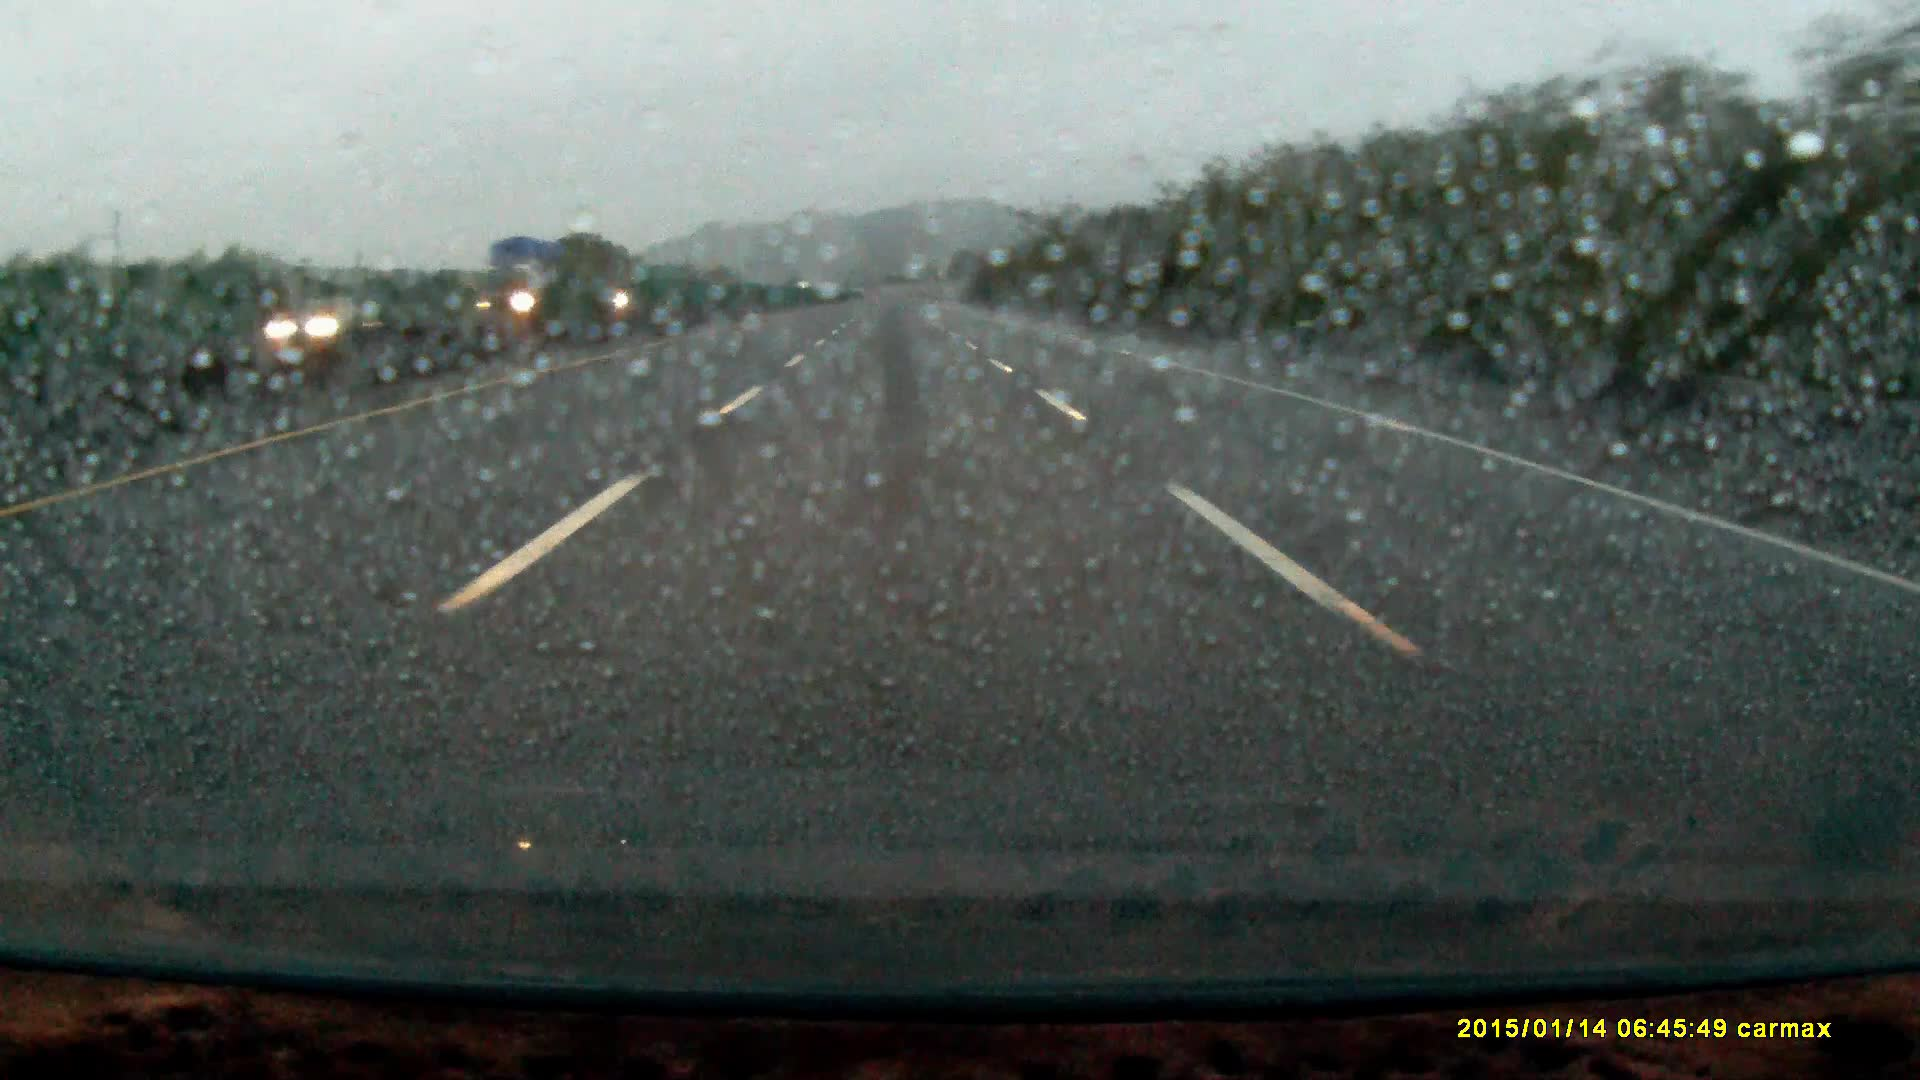vehicle: (480, 243, 595, 335), (270, 301, 382, 342)
